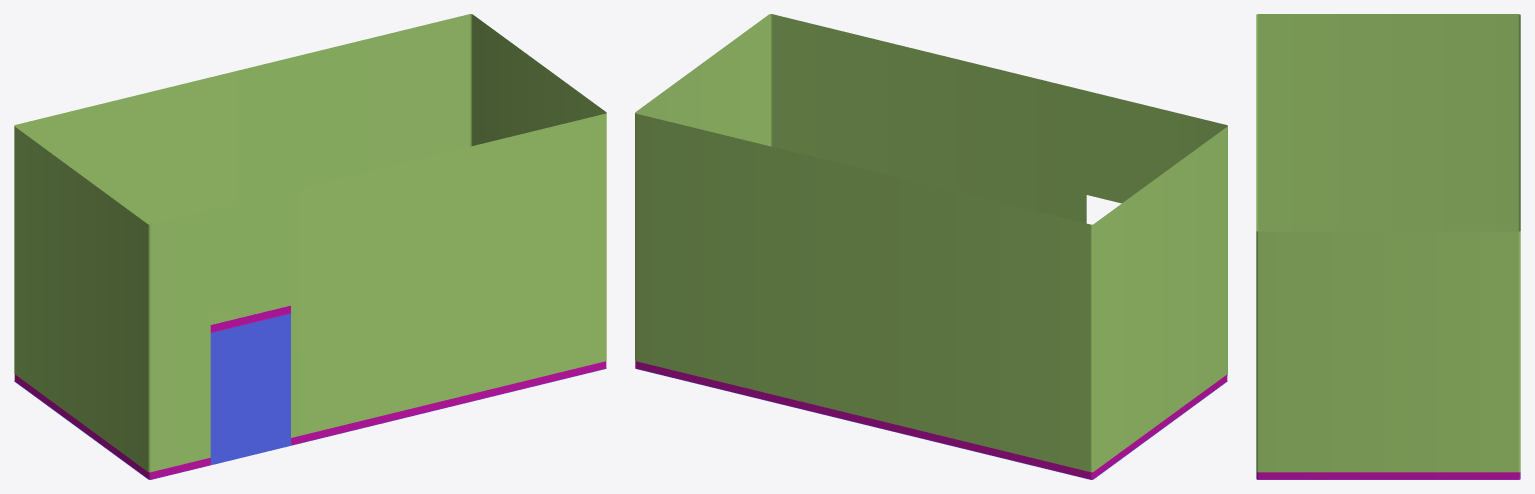
File: room_high.fbx
The picture shows the model from 3 angles, left to right: view 1: azimuth 30°, elevation 25°; view 2: azimuth 150°, elevation 25°; view 3: azimuth 270°, elevation 25°; orthographic projection. The views are drawn at different scales.
Parts seen in each view (by area): view 1: room_high; view 2: room_high; view 3: room_high.
Part boxes in pixels (x1=…): room_high: x1=14, y1=14, x2=606, y2=479; room_high: x1=635, y1=14, x2=1227, y2=479; room_high: x1=1256, y1=14, x2=1520, y2=479.
Bounding box in the file's own units: 1245 × 663 × 640.
